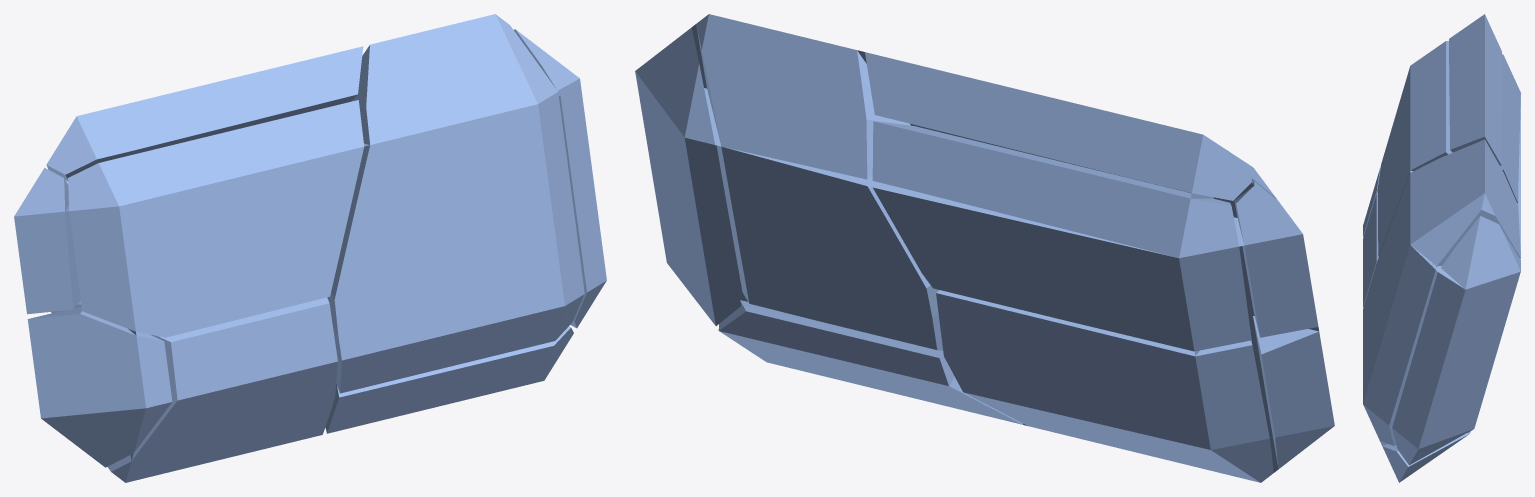
The model's file is pillow_broken.glb.
3 renders of one model, left to right at view 1: azimuth 30°, elevation 25°; view 2: azimuth 150°, elevation 25°; view 3: azimuth 270°, elevation 25°, orthographic. The views are drawn at different scales.
Parts seen in each view (by area): view 1: pillowBlue(Clone)_cell.003, pillowBlue(Clone)_cell.002, pillowBlue(Clone)_cell, pillowBlue(Clone)_cell.006, pillowBlue(Clone)_cell.007, pillowBlue(Clone)_cell.004, pillowBlue(Clone)_cell.008, pillowBlue(Clone)_cell.005; view 2: pillowBlue(Clone)_cell.001, pillowBlue(Clone)_cell.003, pillowBlue(Clone)_cell, pillowBlue(Clone)_cell.007, pillowBlue(Clone)_cell.005, pillowBlue(Clone)_cell.004, pillowBlue(Clone)_cell.008, pillowBlue(Clone)_cell.006; view 3: pillowBlue(Clone)_cell.003, pillowBlue(Clone)_cell.005, pillowBlue(Clone)_cell.002, pillowBlue(Clone)_cell.007, pillowBlue(Clone)_cell.001, pillowBlue(Clone)_cell, pillowBlue(Clone)_cell.004, pillowBlue(Clone)_cell.006.
Part boxes in pixels (bbox=[...]): pillowBlue(Clone)_cell.003: bbox=[327, 14, 584, 393]; pillowBlue(Clone)_cell.002: bbox=[68, 100, 364, 337]; pillowBlue(Clone)_cell: bbox=[51, 160, 337, 482]; pillowBlue(Clone)_cell.006: bbox=[27, 306, 172, 467]; pillowBlue(Clone)_cell.007: bbox=[46, 46, 363, 181]; pillowBlue(Clone)_cell.004: bbox=[325, 326, 573, 433]; pillowBlue(Clone)_cell.008: bbox=[14, 167, 80, 314]; pillowBlue(Clone)_cell.005: bbox=[65, 29, 606, 328]; pillowBlue(Clone)_cell.001: bbox=[872, 121, 1251, 355]; pillowBlue(Clone)_cell.003: bbox=[696, 14, 1276, 350]; pillowBlue(Clone)_cell: bbox=[936, 150, 1273, 482]; pillowBlue(Clone)_cell.007: bbox=[731, 51, 1318, 425]; pillowBlue(Clone)_cell.005: bbox=[635, 24, 1318, 472]; pillowBlue(Clone)_cell.004: bbox=[718, 300, 1022, 424]; pillowBlue(Clone)_cell.008: bbox=[1234, 181, 1318, 337]; pillowBlue(Clone)_cell.006: bbox=[1253, 316, 1334, 469]; pillowBlue(Clone)_cell.003: bbox=[1363, 139, 1520, 445]; pillowBlue(Clone)_cell.005: bbox=[1380, 95, 1520, 465]; pillowBlue(Clone)_cell.002: bbox=[1378, 41, 1452, 256]; pillowBlue(Clone)_cell.007: bbox=[1449, 14, 1501, 165]; pillowBlue(Clone)_cell.001: bbox=[1500, 54, 1520, 203]; pillowBlue(Clone)_cell: bbox=[1363, 193, 1378, 307]; pillowBlue(Clone)_cell.004: bbox=[1382, 431, 1470, 482]; pillowBlue(Clone)_cell.006: bbox=[1363, 168, 1380, 236].
Bounding box in the file's own units: 0.23 × 0.1285 × 0.0634.
